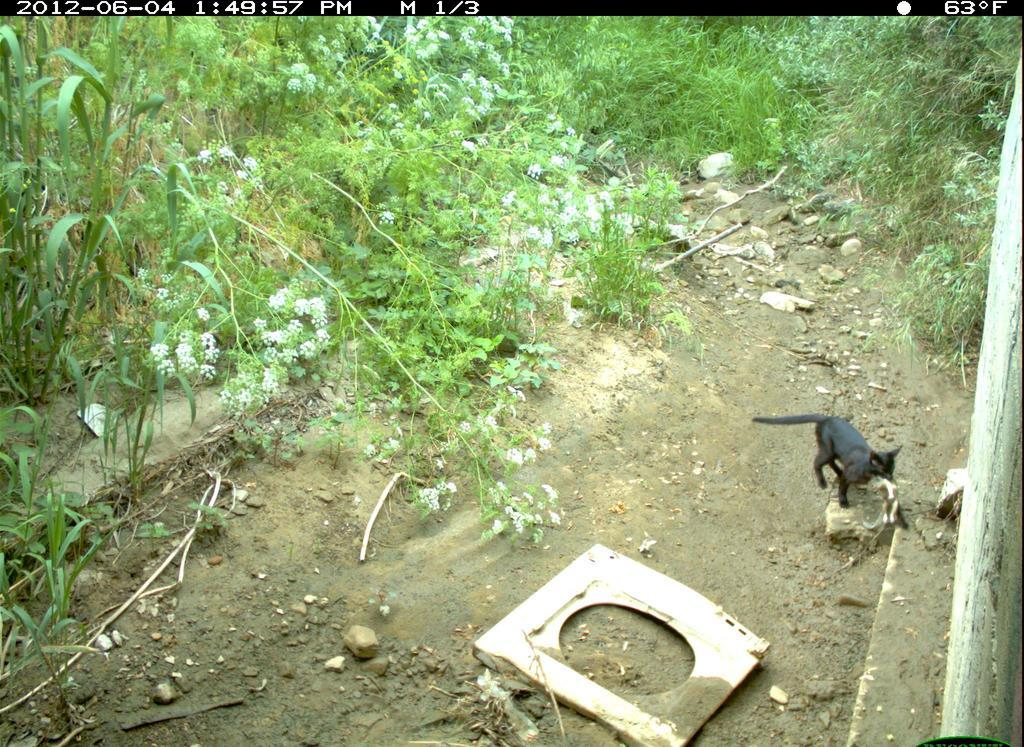cat: (766, 386, 912, 524)
